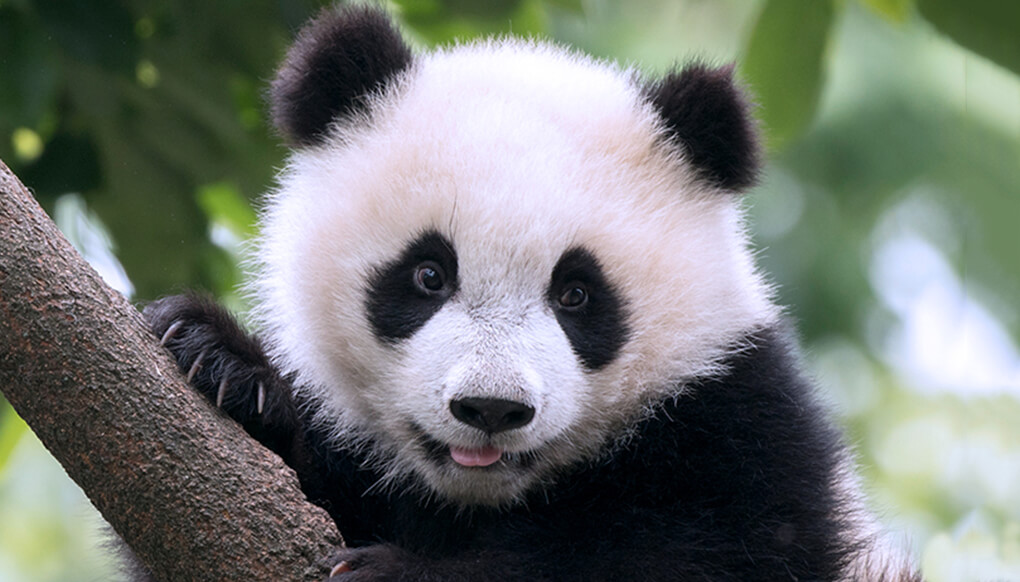panda: (230, 10, 867, 582)
